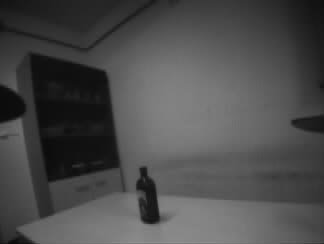Bottle: (135, 167, 160, 225)
